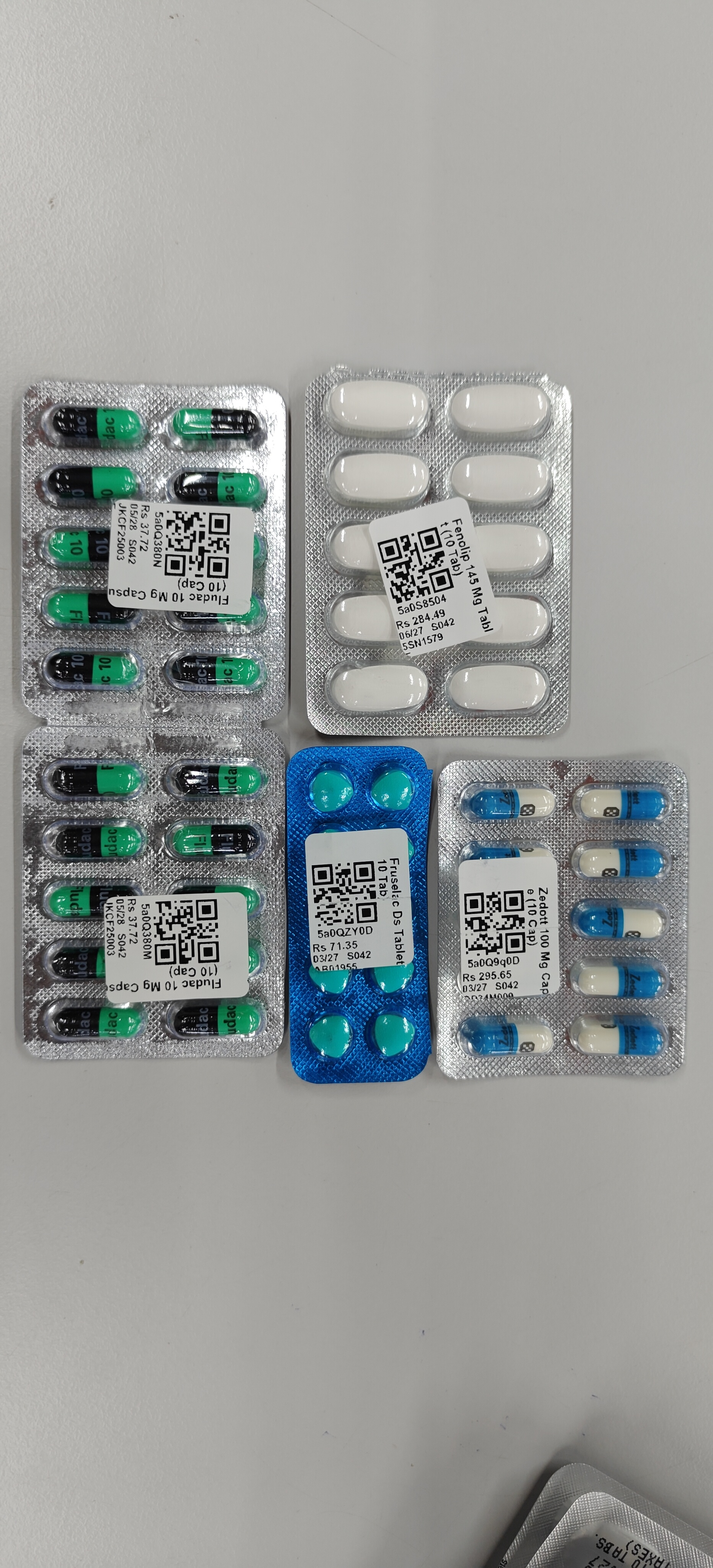qr_code: (377, 526, 454, 605), (152, 899, 219, 965), (311, 861, 377, 926), (464, 890, 525, 957)
